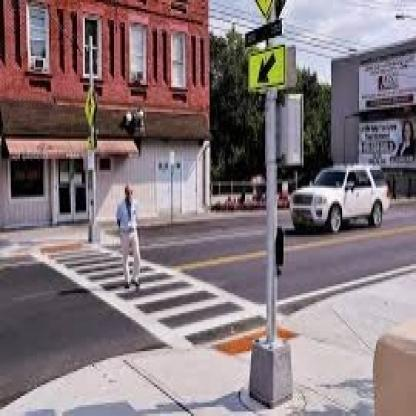Crosswalk: (30, 235, 274, 341)
